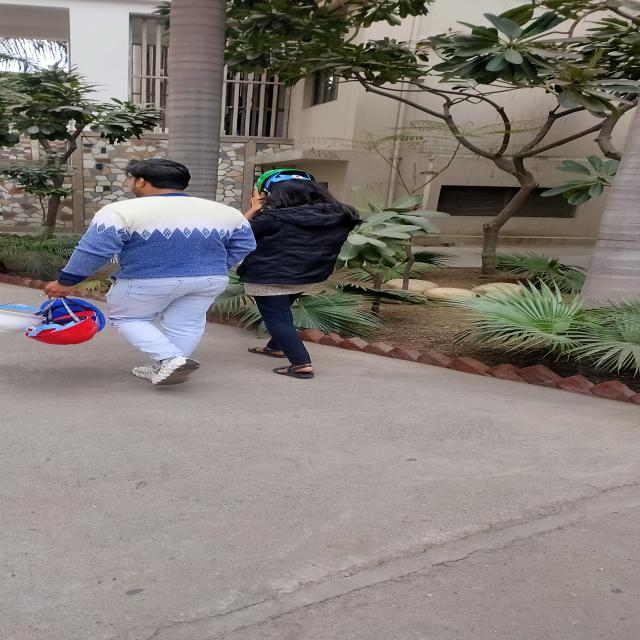no jacket: (242, 167, 358, 379)
unsafe: (8, 158, 252, 387)
